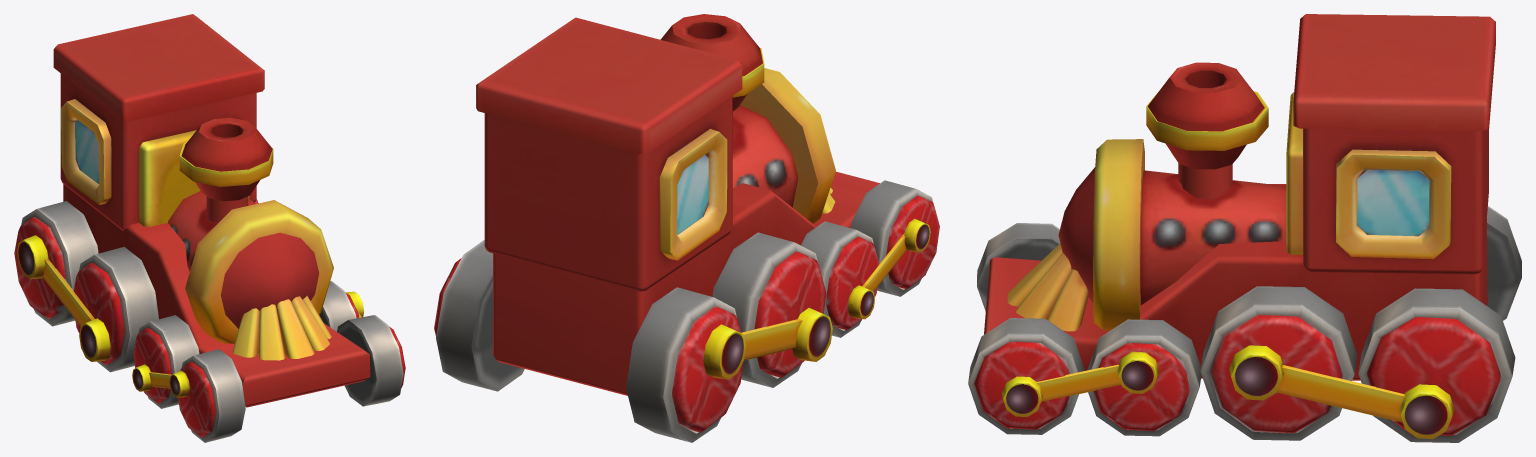
File: train.fbx
3 renders of one model, left to right at view 1: azimuth 30°, elevation 25°; view 2: azimuth 150°, elevation 25°; view 3: azimuth 270°, elevation 25°, orthographic. The views are drawn at different scales.
Visible parts, largest first — view 1: train; view 2: train; view 3: train.
Boxes of the visible parts, x1,y1,x2,y2 form: train: (14, 14, 405, 442); train: (434, 14, 939, 442); train: (968, 14, 1521, 442).
Bounding box in the file's own units: 61.39 × 63.91 × 97.92.
